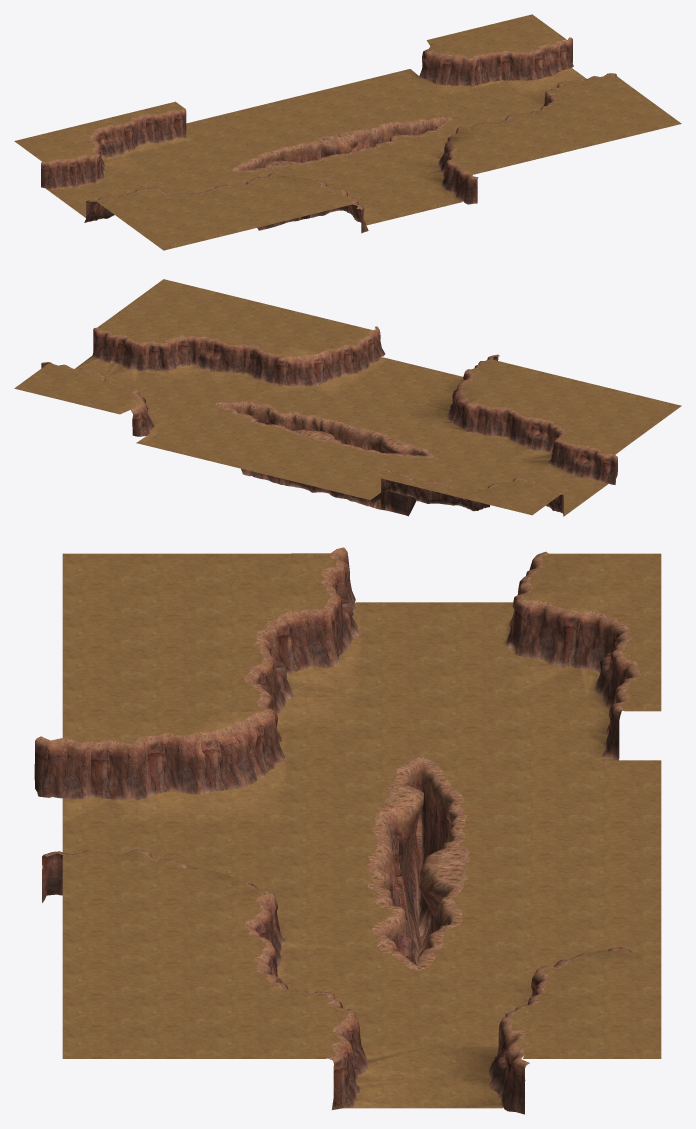
The model's file is ground.FBX.
3 views of the same model, one above another, from view 1: azimuth 30°, elevation 25°; view 2: azimuth 150°, elevation 25°; view 3: azimuth 270°, elevation 25° (orthographic). The views are drawn at different scales.
Visible parts, largest first — view 1: ground_06, ground_00, ground_03, ground_01, ground_05, ground_04, ground_02; view 2: ground_00, ground_06, ground_03, ground_02, ground_01, ground_04, ground_05; view 3: ground_00, ground_06, ground_05, ground_04, ground_02, ground_01, ground_03.
Part boxes in pixels (x1,y1,x2,y2): ground_06: [14, 117, 260, 250]; ground_00: [186, 102, 422, 233]; ground_03: [273, 86, 486, 211]; ground_01: [403, 30, 616, 155]; ground_05: [468, 14, 681, 139]; ground_04: [111, 101, 324, 226]; ground_02: [338, 70, 551, 171]; ground_00: [273, 354, 519, 516]; ground_06: [435, 382, 681, 516]; ground_03: [208, 326, 422, 496]; ground_02: [144, 310, 357, 480]; ground_01: [79, 295, 292, 444]; ground_04: [371, 366, 584, 504]; ground_05: [14, 279, 227, 404]; ground_00: [34, 711, 661, 964]; ground_06: [62, 547, 661, 697]; ground_05: [62, 995, 661, 1114]; ground_04: [62, 648, 661, 761]; ground_02: [62, 869, 661, 981]; ground_01: [62, 931, 661, 1044]; ground_03: [42, 849, 661, 962].
Bounding box in the file's own units: 821 × 419 × 134.
